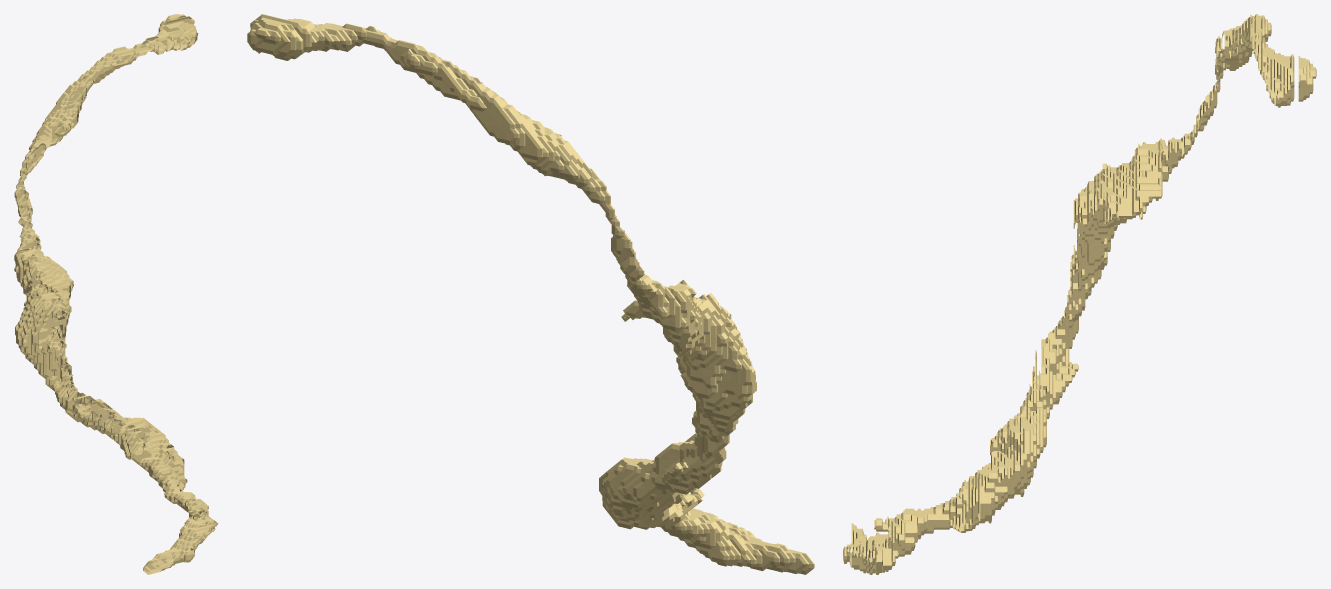
Rendered from SVV_ASHL.gltf.
3 views of the same model, side by side, from view 1: azimuth 30°, elevation 25°; view 2: azimuth 150°, elevation 25°; view 3: azimuth 270°, elevation 25° (orthographic). The views are drawn at different scales.
Parts seen in each view (by area): view 1: ASHL; view 2: ASHL; view 3: ASHL.
Part boxes in pixels (x1,y1,x2,y2): ASHL: (14, 14, 218, 574); ASHL: (247, 14, 814, 574); ASHL: (843, 14, 1316, 574).
Bounding box in the file's own units: 50211 × 80424 × 56615.
